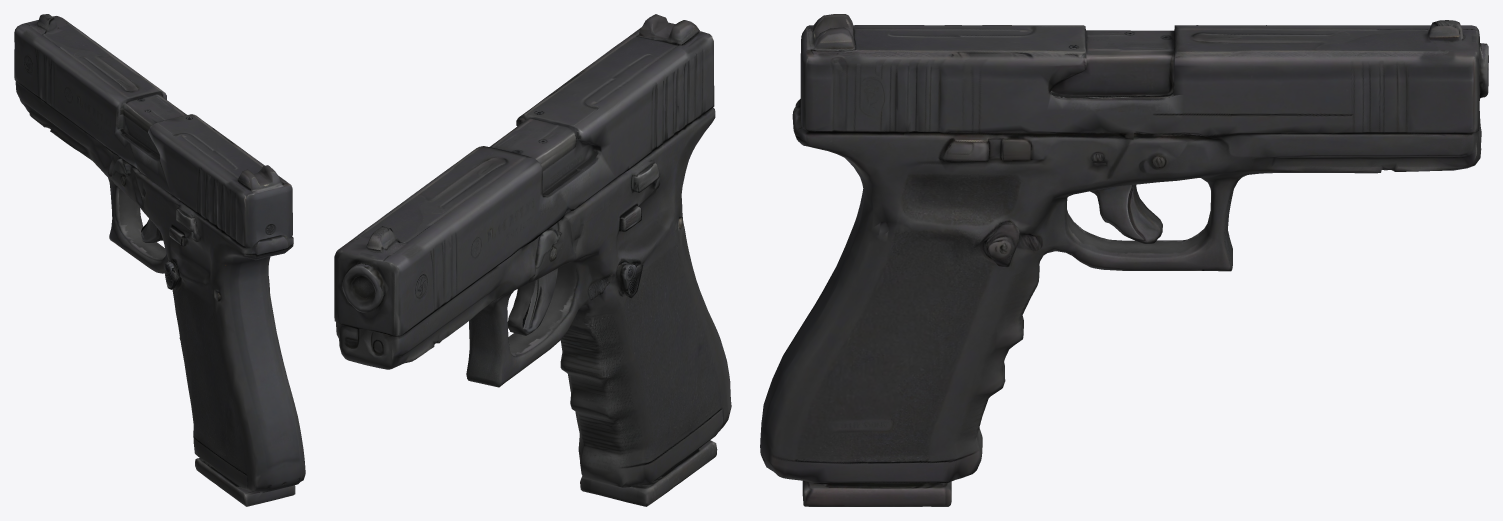
The model's file is P_Gun.fbx.
3 views of the same model, side by side, from view 1: azimuth 30°, elevation 25°; view 2: azimuth 150°, elevation 25°; view 3: azimuth 270°, elevation 25° (orthographic). The views are drawn at different scales.
Parts seen in each view (by area): view 1: Mesh_0; view 2: Mesh_0; view 3: Mesh_0.
Boxes of the visible parts, box(x1,y1,x2,y2) form: Mesh_0: box(14, 14, 305, 506); Mesh_0: box(334, 14, 731, 506); Mesh_0: box(760, 14, 1488, 506).
Bounding box in the file's own units: 4.51 × 21.27 × 29.98.
1 material, 1 textured.
